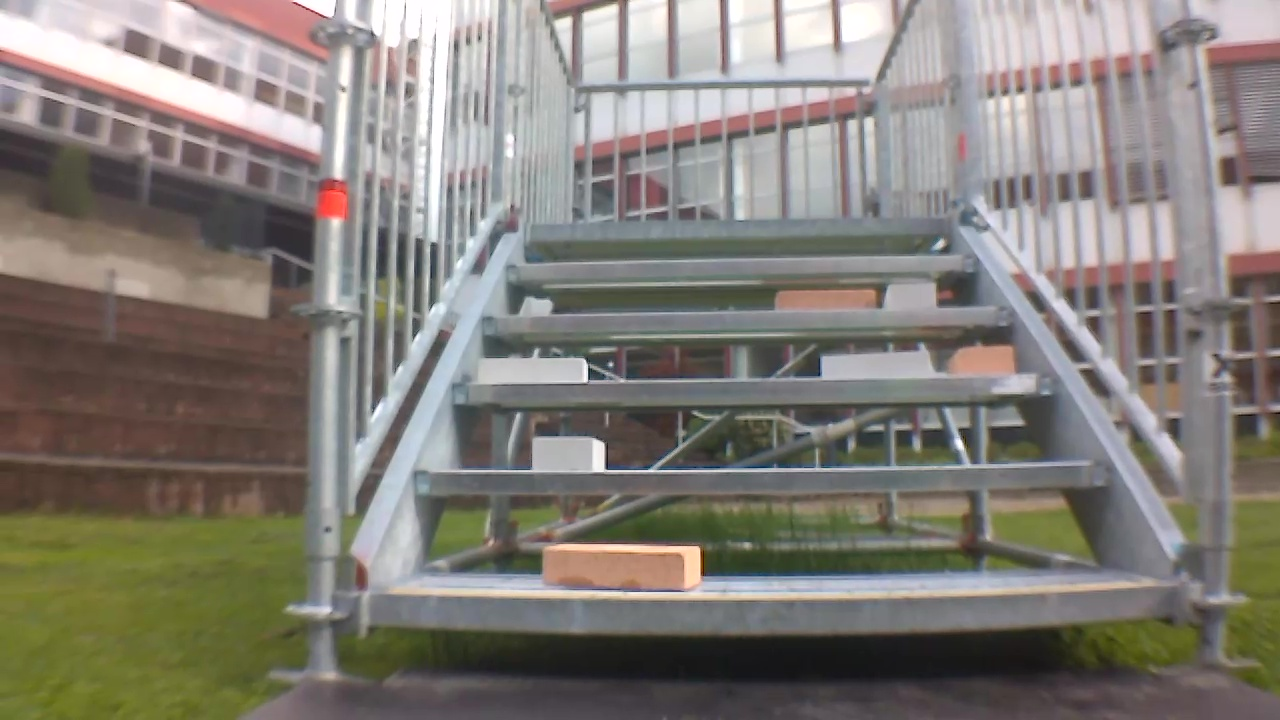brick: (543, 545, 699, 590), (823, 352, 926, 379), (479, 358, 586, 383), (533, 436, 604, 470), (775, 290, 874, 308), (952, 347, 1012, 373), (885, 284, 935, 305)
edge: (372, 586, 1173, 633), (416, 461, 1115, 492), (454, 372, 1064, 402), (483, 306, 1013, 332), (508, 255, 980, 278), (530, 217, 954, 239)
stairs: (289, 3, 1258, 667)
steps: (364, 207, 1181, 648)
